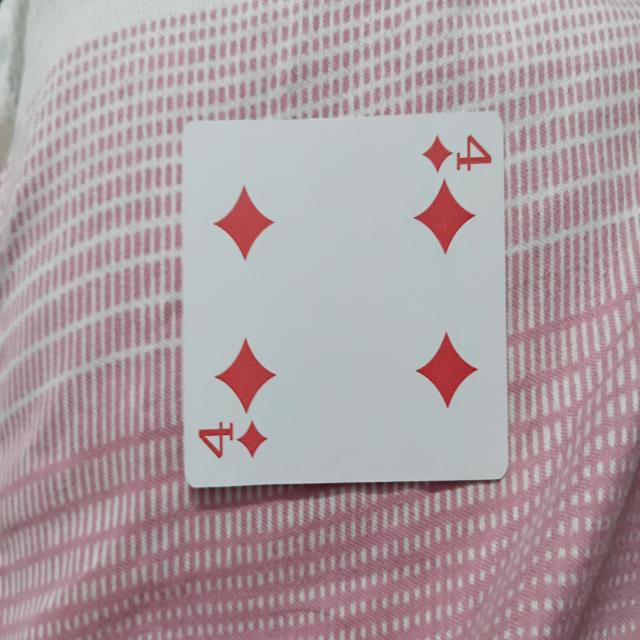4D: (179, 127, 506, 475)
